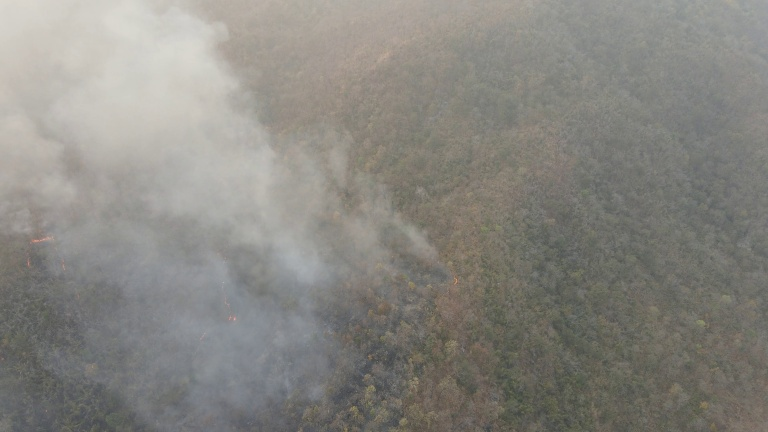fire: (21, 235, 68, 275), (213, 277, 243, 325), (440, 263, 460, 306)
smoke: (1, 1, 464, 430)
